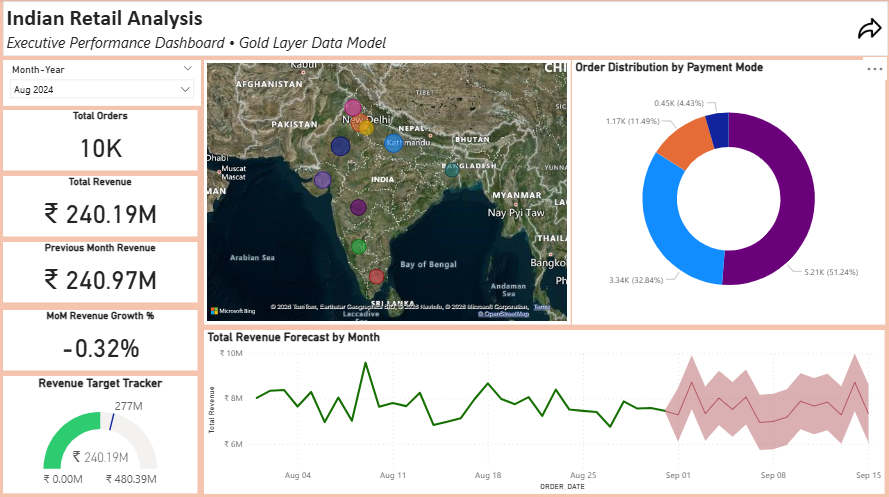

The dashboard page shown, as its layout file describes it:
{"tool":"powerbi","page":{"name":"Overview","canvas":[1280,720],"ordinal":0},"visuals":[{"type":"card","title":"Total Revenue","fields":{"Values":["FACT_SALES.Total Revenue"]},"box":[5,255,280.2,87.2],"z":0},{"type":"card","title":"Total Orders","fields":{"Values":["FACT_SALES.Total Orders"]},"box":[5,159.4,280.2,87.2],"z":1000},{"type":"map","fields":{"Category":["DIM_CUSTOMERS.STATE"],"Size":["FACT_SALES.Total Revenue"],"Series":["DIM_CUSTOMERS.STATE"]},"box":[293.6,87.2,528.4,380.8],"z":2000},{"type":"donutChart","title":"Order Distribution by Payment Mode","fields":{"Category":["FACT_SALES.PAYMENT_MODE"],"Y":["CountNonNull(FACT_SALES.ORDER_ID)"]},"box":[823.7,87.2,451.3,380.8],"z":3000},{"type":"lineChart","title":"Total Revenue Forecast by Month","fields":{"Y":["FACT_SALES.Total Revenue"],"Category":["FACT_SALES.ORDER_DATE"]},"box":[293.6,476.4,979.7,236],"z":4000},{"type":"card","title":"Previous Month Revenue","fields":{"Values":["FACT_SALES.Previous Month Revenue"]},"box":[5,350.6,280.2,87.2],"z":5000},{"type":"slicer","fields":{"Values":["DIM_DATE.Month-Year"]},"box":[5,87.2,285.2,66],"z":6000},{"type":"card","title":"MoM Revenue Growth %","fields":{"Values":["FACT_SALES.MoM Revenue Growth %"]},"box":[5,447.9,280.2,87.2],"z":7000},{"type":"gauge","title":"Revenue Target Tracker","fields":{"Y":["FACT_SALES.Total Revenue"],"TargetValue":["FACT_SALES.Annual Revenue Target"]},"box":[5,543.5,280.2,169.4],"z":8000},{"type":"textbox","box":[5,3.4,1273.3,79],"z":9000},{"type":"image","box":[1229.7,20.1,47,43.6],"z":9001}]}

Visuals, with their boxes in screenshot pixels (x1, y1, x2, y2), scaled from the page's 1280x720 canvas onto the 889x497 screenshot:
"Total Revenue" card: <bbox>3, 176, 198, 236</bbox>
"Total Orders" card: <bbox>3, 110, 198, 170</bbox>
map - DIM_CUSTOMERS.STATE x FACT_SALES.Total Revenue: <bbox>204, 60, 571, 323</bbox>
"Order Distribution by Payment Mode" donutChart: <bbox>572, 60, 886, 323</bbox>
"Total Revenue Forecast by Month" lineChart: <bbox>204, 329, 884, 492</bbox>
"Previous Month Revenue" card: <bbox>3, 242, 198, 302</bbox>
slicer - DIM_DATE.Month-Year: <bbox>3, 60, 202, 106</bbox>
"MoM Revenue Growth %" card: <bbox>3, 309, 198, 369</bbox>
"Revenue Target Tracker" gauge: <bbox>3, 375, 198, 492</bbox>
textbox: <bbox>3, 2, 888, 57</bbox>
image: <bbox>854, 14, 887, 44</bbox>
